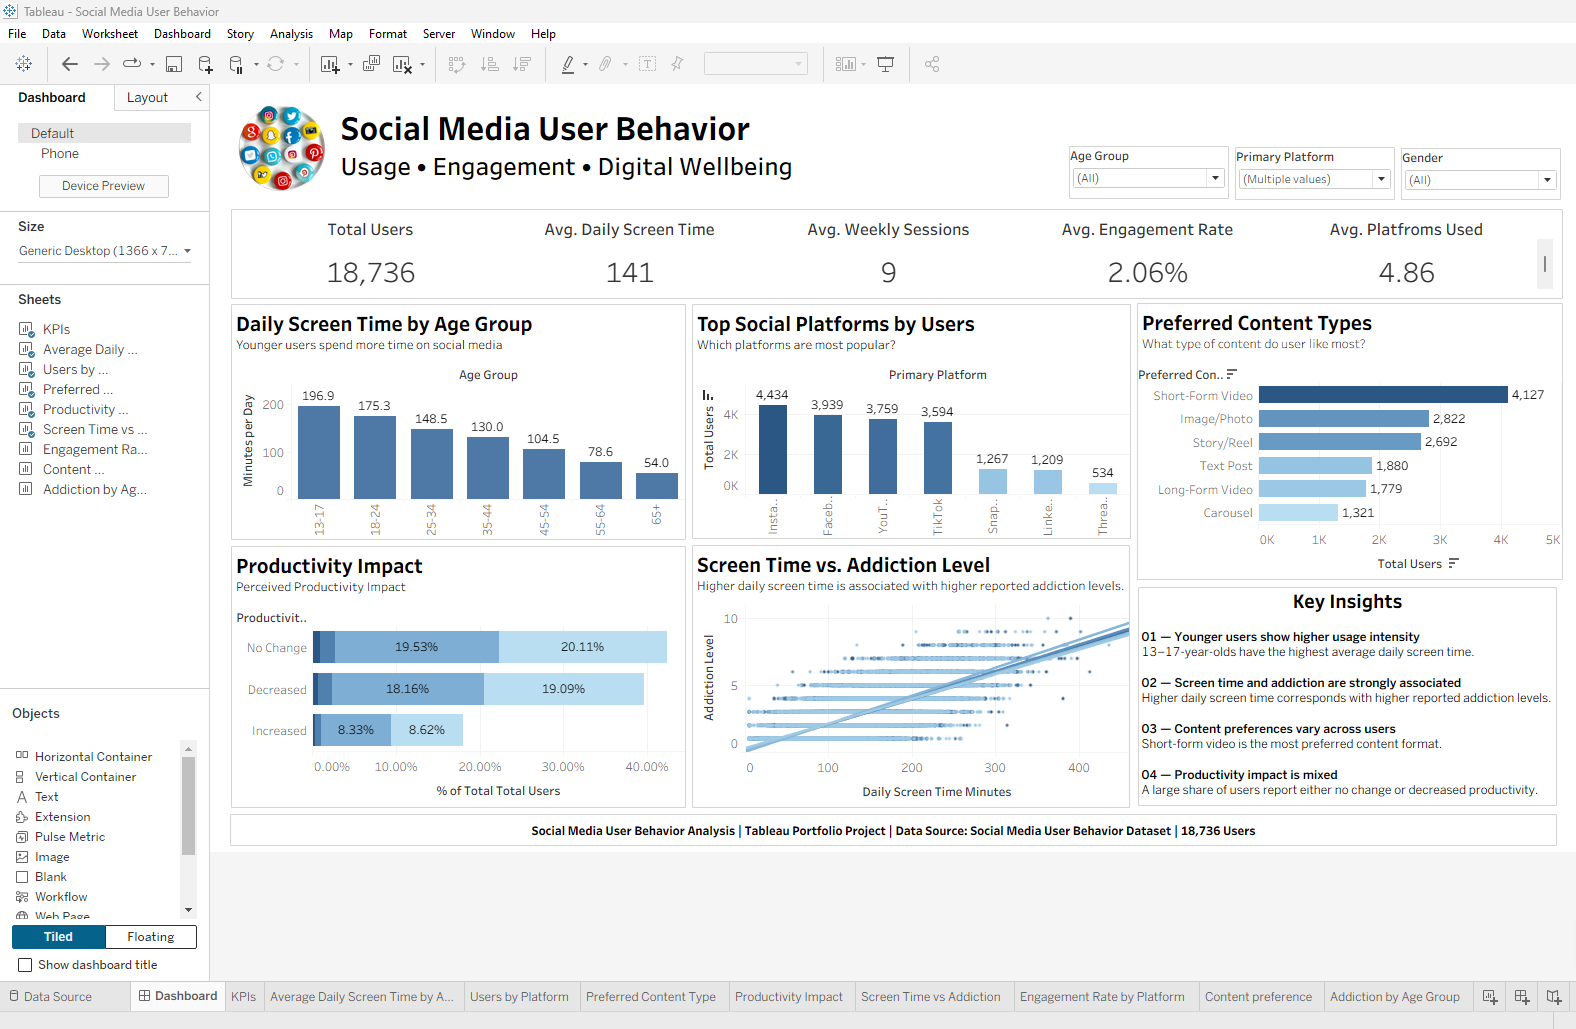

Layout of this report page (visuals, bound fields, positions):
{"tool":"tableau","page":{"name":"Dashboard","canvas":[1366,768],"ordinal":0},"visuals":[{"type":"text","box":[128,15,489,91]},{"type":"image","param":"C:/Users/User/Desktop/Data Analysis Dashboard/Data set/Social Media and user Beh","box":[25,18,108,92]},{"type":"filter","title":"Average Daily Screen Time by Age Group","param":"[federated.0zkog790lhe7v01br2wys17nwynq].[none:age_group:nk]","box":[859,62,160,53]},{"type":"filter","title":"Users by Platform","param":"[federated.0zkog790lhe7v01br2wys17nwynq].[none:primary_platform:nk]","box":[1025,63,160,53]},{"type":"filter","title":"Productivity Impact","param":"[federated.0zkog790lhe7v01br2wys17nwynq].[none:gender:nk]","box":[1191,64,160,52]},{"type":"worksheet","title":"KPIs","mark":"Automatic","box":[21,125,1332,90]},{"type":"worksheet","title":"Preferred Content Type","mark":"Automatic","rows":["preferred_content_type"],"cols":["Calculation_0793341167194112"],"box":[927,219,426,277]},{"type":"worksheet","title":"Average Daily Screen Time by Age Group","mark":"Automatic","rows":["Calculation_0793341176545282"],"cols":["age_group"],"box":[21,220,455,236]},{"type":"worksheet","title":"Users by Platform","mark":"Automatic","rows":["Calculation_0793341167194112"],"cols":["primary_platform"],"box":[482,220,439,235]},{"type":"worksheet","title":"Screen Time vs Addiction","mark":"Circle","rows":["addiction_level_1_to_10"],"cols":["daily_screen_time_minutes"],"box":[482,461,438,263]},{"type":"worksheet","title":"Productivity Impact","mark":"Automatic","rows":["productivity_impact"],"cols":["Calculation_0793341167194112"],"box":[21,462,455,262]},{"type":"text","box":[928,503,419,219]},{"type":"text","box":[20,730,1327,32]}]}

Visuals, with their boxes on the page's 1366x768 design canvas (x1, y1, x2, y2). These are canvas units, not pixel positions in the 1576x1029 screenshot, which may show the page scaled, cropped or inside an application window:
text: x1=128, y1=15, x2=617, y2=106
image: x1=25, y1=18, x2=133, y2=110
"Average Daily Screen Time by Age Group" filter: x1=859, y1=62, x2=1019, y2=115
"Users by Platform" filter: x1=1025, y1=63, x2=1185, y2=116
"Productivity Impact" filter: x1=1191, y1=64, x2=1351, y2=116
"KPIs" worksheet: x1=21, y1=125, x2=1353, y2=215
"Preferred Content Type" worksheet: x1=927, y1=219, x2=1353, y2=496
"Average Daily Screen Time by Age Group" worksheet: x1=21, y1=220, x2=476, y2=456
"Users by Platform" worksheet: x1=482, y1=220, x2=921, y2=455
"Screen Time vs Addiction" worksheet (Circle marks): x1=482, y1=461, x2=920, y2=724
"Productivity Impact" worksheet: x1=21, y1=462, x2=476, y2=724
text: x1=928, y1=503, x2=1347, y2=722
text: x1=20, y1=730, x2=1347, y2=762
